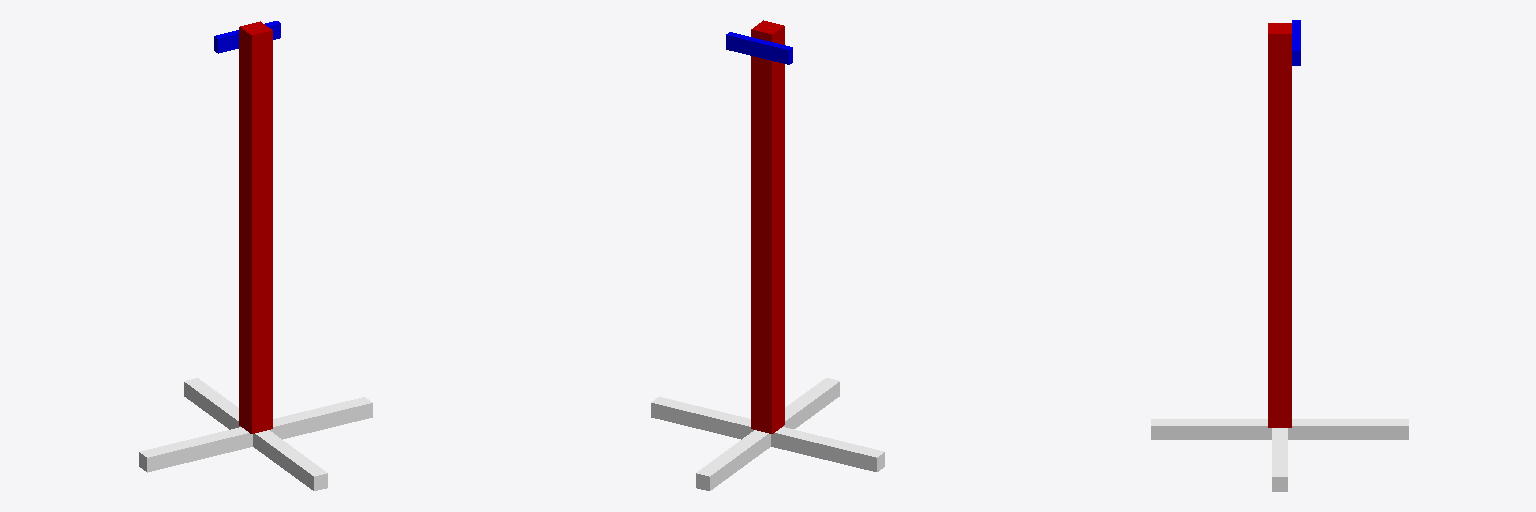
robot.urdf — coldeyes:
<?xml version="1.0"?>
<robot name="coldeyes">
  <link name="base_link">
    <visual>
      <geometry>
        <box size=".03 .03 .54"/>
      </geometry>
      <origin rpy="0 0 0" xyz="0 0 .280"/>
      <material name="red">
        <color rgba=".8 0 0 1"/>
      </material>
    </visual>
  </link>

  <link name="camera_front">
    <visual>
      <geometry>
        <box size=".09 .01 .02"/>
      </geometry>
      <origin rpy="1.57075 0 0" xyz="0 0 0"/>
      <material name="blue">
        <color rgba="0 0 1 1"/>
      </material>
    </visual>
  </link>

  <joint name="base_to_camera_front" type="fixed">
    <parent link="base_link"/>
    <child link="camera_front"/>
    <origin rpy="-1.57075 0 0" xyz="0 .0205 0.53"/>
  </joint>

  <link name="x_leg">
    <visual>
      <geometry>
        <box size=".02 .02 .32"/>
      </geometry>
      <origin rpy="0 1.57075 1.57075" xyz="0 0 0"/>
      <material name="white">
        <color rgba="1 1 1 1"/>
      </material>
    </visual>
  </link>

  <joint name="base_to_right_leg" type="fixed">
    <parent link="base_link"/>
    <child link="x_leg"/>
    <origin xyz="0 0 0"/>
  </joint>

  <link name="y_leg">
    <visual>
      <geometry>
        <box size=".02 .02 .32"/>
      </geometry>
      <origin rpy="1.57075 1.57075 1.57075" xyz="0 0 0"/>
      <material name="white"/>
    </visual>
  </link>

  <joint name="base_to_left_leg" type="fixed">
    <parent link="base_link"/>
    <child link="y_leg"/>
    <origin xyz="0 0 0"/>
  </joint>
</robot>

--- What the picture shows (computed from the rendered views, not written in the file) ---
Views: 3 orthographic renders of the robot side by side, from view 1: azimuth 30°, elevation 25°; view 2: azimuth 150°, elevation 25°; view 3: azimuth 270°, elevation 25°.
Model coldeyes with 4 links and 3 joints (3 fixed), rooted at base_link, posed all joints at 0.
Links seen in each view (by area): view 1: base_link, y_leg, x_leg, camera_front; view 2: base_link, y_leg, x_leg, camera_front; view 3: base_link, x_leg, y_leg.
Link boxes in pixels (bbox=[...]): base_link: bbox=[239, 21, 272, 433]; y_leg: bbox=[139, 397, 372, 472]; x_leg: bbox=[184, 378, 327, 490]; camera_front: bbox=[214, 21, 280, 53]; base_link: bbox=[751, 20, 784, 433]; y_leg: bbox=[651, 397, 884, 471]; x_leg: bbox=[696, 378, 839, 490]; camera_front: bbox=[726, 32, 792, 64]; base_link: bbox=[1268, 23, 1291, 427]; x_leg: bbox=[1151, 419, 1408, 439]; y_leg: bbox=[1272, 428, 1287, 491].
Size in the robot's own frame: 0.32 by 0.32 by 0.56 metres.
Geometry: primitives only (box / cylinder / sphere), no mesh files.
